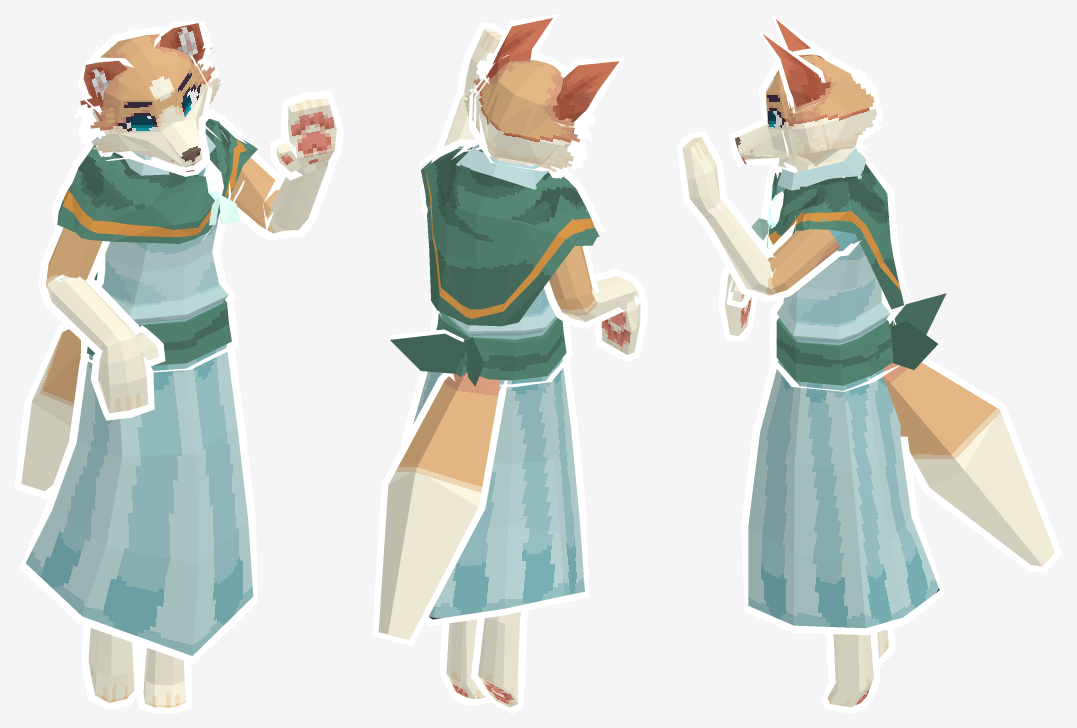
The model's file is Fig Kani outline.glb.
3 views of the same model, side by side, from view 1: azimuth 30°, elevation 25°; view 2: azimuth 150°, elevation 25°; view 3: azimuth 270°, elevation 25° (orthographic). The views are drawn at different scales.
Parts seen in each view (by area): view 1: dress, head.006, accs.001, body.005, body.006, tail, body, accs, body.010, accs.003, accs.002; view 2: dress, tail, accs.001, head.006, body.005, accs, body, body.006, body.010, accs.005, accs.004; view 3: dress, tail, head.006, body.006, accs.001, accs, body.010, body.005, accs.005, accs.004.
Part boxes in pixels (box(x1,y1,x2,y2)): dress: box(19, 120, 257, 663); head.006: box(75, 21, 220, 176); accs.001: box(51, 110, 257, 243); body.005: box(38, 224, 165, 420); body.006: box(226, 91, 343, 241); tail: box(14, 323, 80, 499); body: box(81, 625, 141, 710); accs: box(80, 290, 238, 372); body.010: box(137, 645, 192, 713); accs.003: box(209, 195, 239, 225); accs.002: box(203, 159, 223, 200); dress: box(400, 139, 589, 625); tail: box(372, 372, 507, 645); accs.001: box(419, 139, 605, 326); head.006: box(464, 14, 625, 178); body.005: box(544, 245, 647, 361); accs: box(429, 305, 572, 387); body: box(471, 610, 528, 713); body.006: box(419, 23, 505, 204); body.010: box(439, 619, 490, 705); accs.005: box(389, 329, 466, 373); accs.004: box(466, 337, 484, 386); dress: box(741, 145, 944, 635); tail: box(882, 357, 1062, 572); head.006: box(728, 14, 883, 172); body.006: box(676, 130, 852, 302); accs.001: box(760, 151, 909, 309); accs: box(769, 302, 899, 391); body.010: box(821, 632, 880, 713); body.005: box(718, 240, 772, 342); accs.005: box(891, 321, 937, 369); accs.004: box(888, 293, 946, 334).
Bounding box in the file's own units: 1.11 × 3.29 × 1.76.
7 materials, 6 textured.
